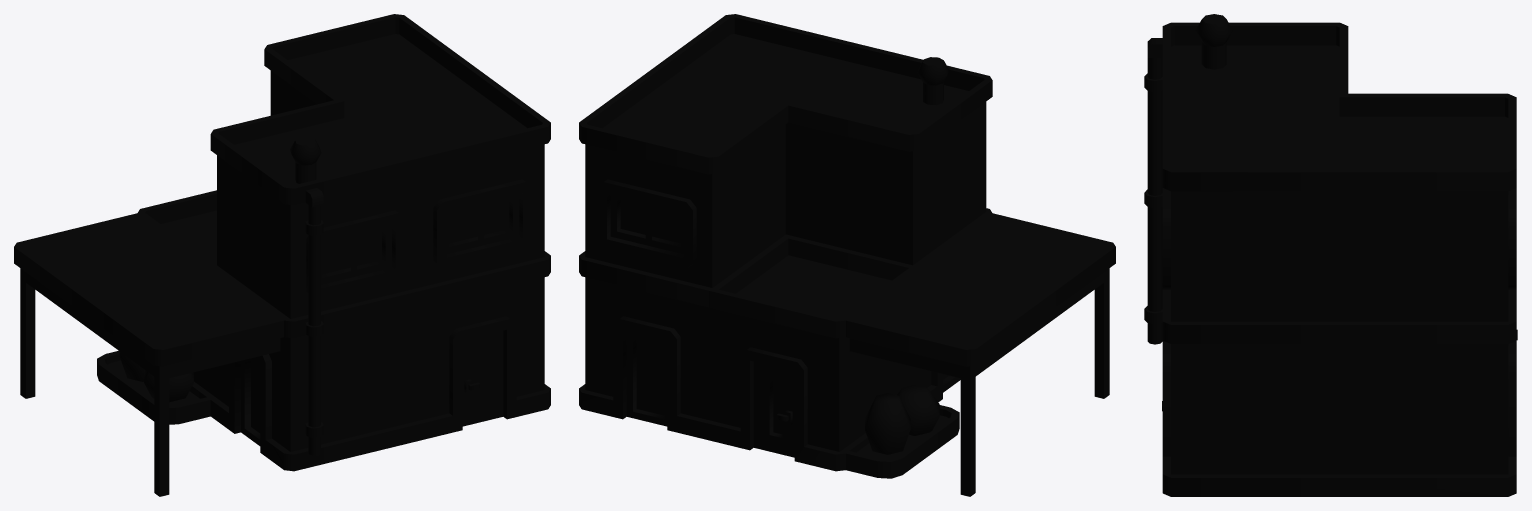
File: building-type-q.glb
3 renders of one model, left to right at view 1: azimuth 30°, elevation 25°; view 2: azimuth 150°, elevation 25°; view 3: azimuth 270°, elevation 25°, orthographic. The views are drawn at different scales.
Visible parts, largest first — view 1: building-type-q; view 2: building-type-q; view 3: building-type-q.
Part boxes in pixels (left/top/right/bottom): building-type-q: left=14, top=14, right=550, bottom=496; building-type-q: left=579, top=14, right=1115, bottom=496; building-type-q: left=1144, top=14, right=1517, bottom=496.
Bounding box in the file's own units: 1.24 × 0.918 × 0.8856.
1 material, 1 textured.
